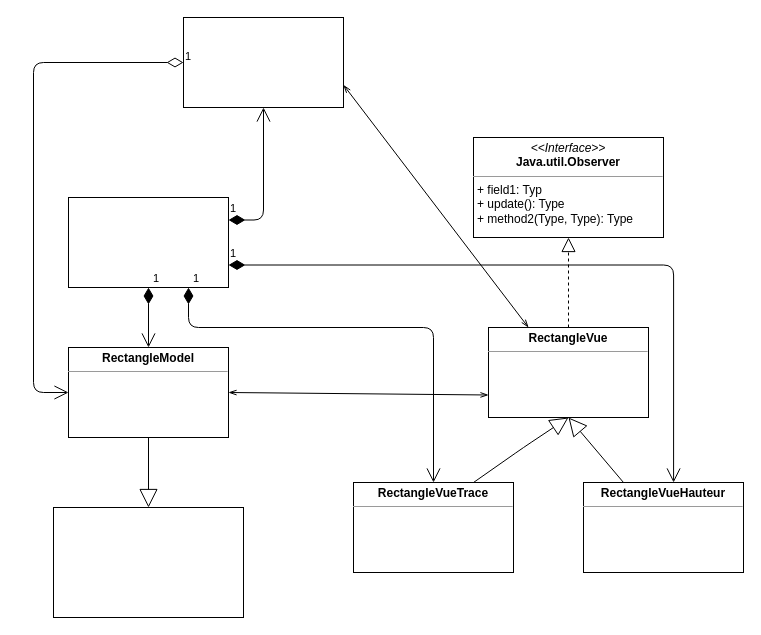
This 761x635 diagram has some shape labels left out. The shapes that lost their labels are listed below. From the top down, each one's centre as x and y in pixels, then its label:
point (263, 62): RectangleController
point (148, 242): RectangleMVC RectangleModel RectangleVue RectangleController
point (148, 562): <<Interface>> Java.util.Observable - setChanged() - notifyObservers()
